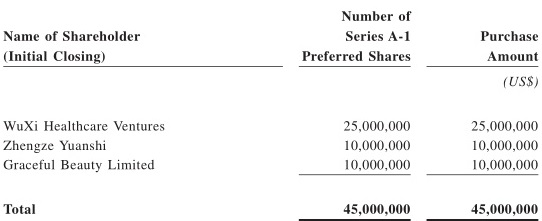column: (4, 2, 164, 221), (302, 1, 411, 221), (470, 1, 539, 217)
row: (1, 30, 542, 43), (1, 50, 542, 63), (1, 119, 542, 132), (1, 159, 542, 171), (1, 10, 542, 21), (1, 140, 542, 151), (1, 204, 542, 214)
